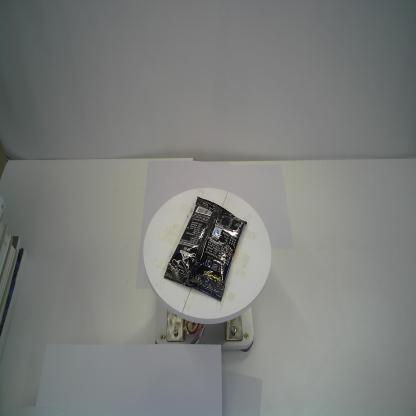Instant Drink: (163, 195, 248, 302)
